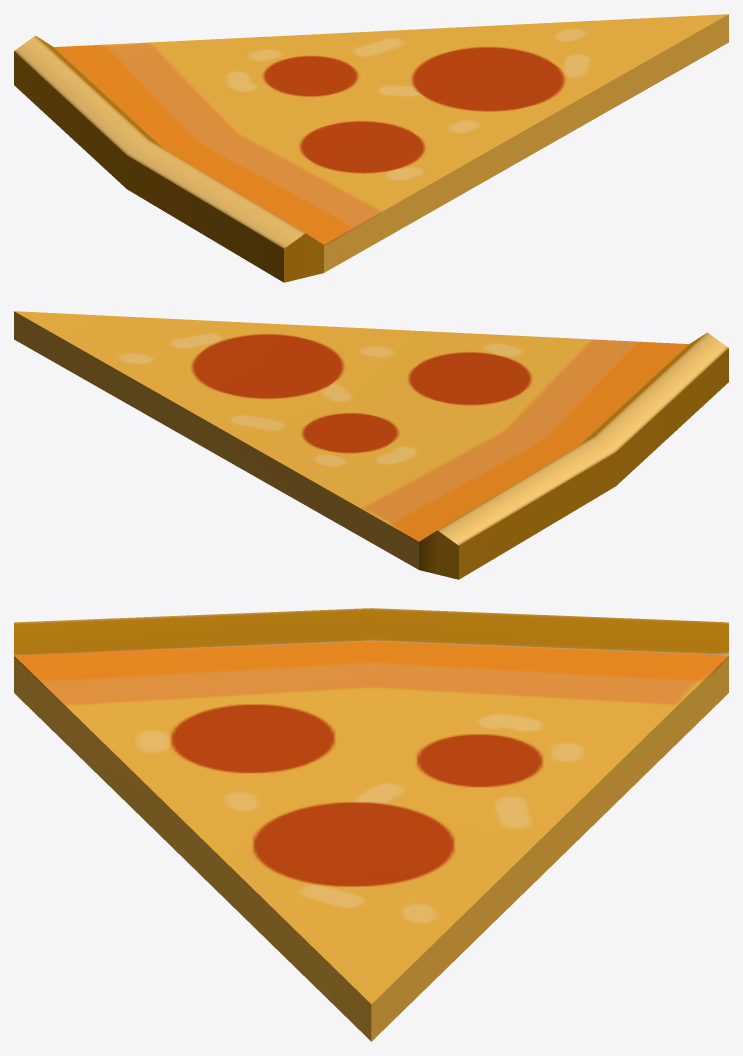
The model's file is Pizza.fbx.
3 views of the same model, one above another, from view 1: azimuth 30°, elevation 25°; view 2: azimuth 150°, elevation 25°; view 3: azimuth 270°, elevation 25° (orthographic). The views are drawn at different scales.
Visible parts, largest first — view 1: Pizza; view 2: Pizza; view 3: Pizza.
Part boxes in pixels (x1=…): Pizza: x1=14, y1=14, x2=728, y2=282; Pizza: x1=14, y1=311, x2=728, y2=579; Pizza: x1=14, y1=608, x2=728, y2=1041.
Bounding box in the file's own units: 7.42 × 0.5226 × 5.77.
